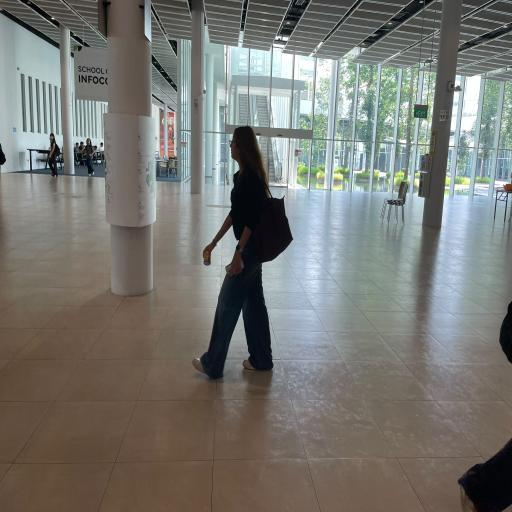person_left: (194, 122, 282, 388)
